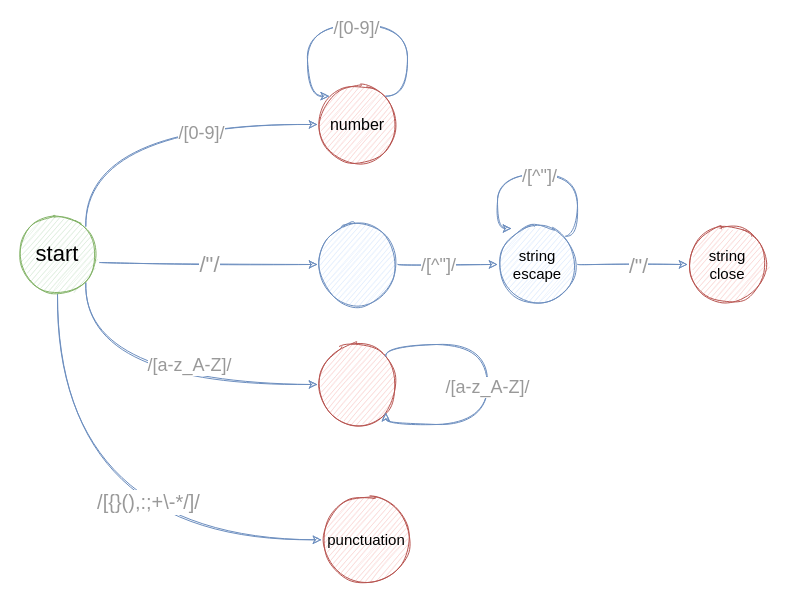
Image size: 785x603. Some labels were removed from this diagram. Each missing label, with the centre of its shape:
identifier: (357,384)
string open: (357,264)
